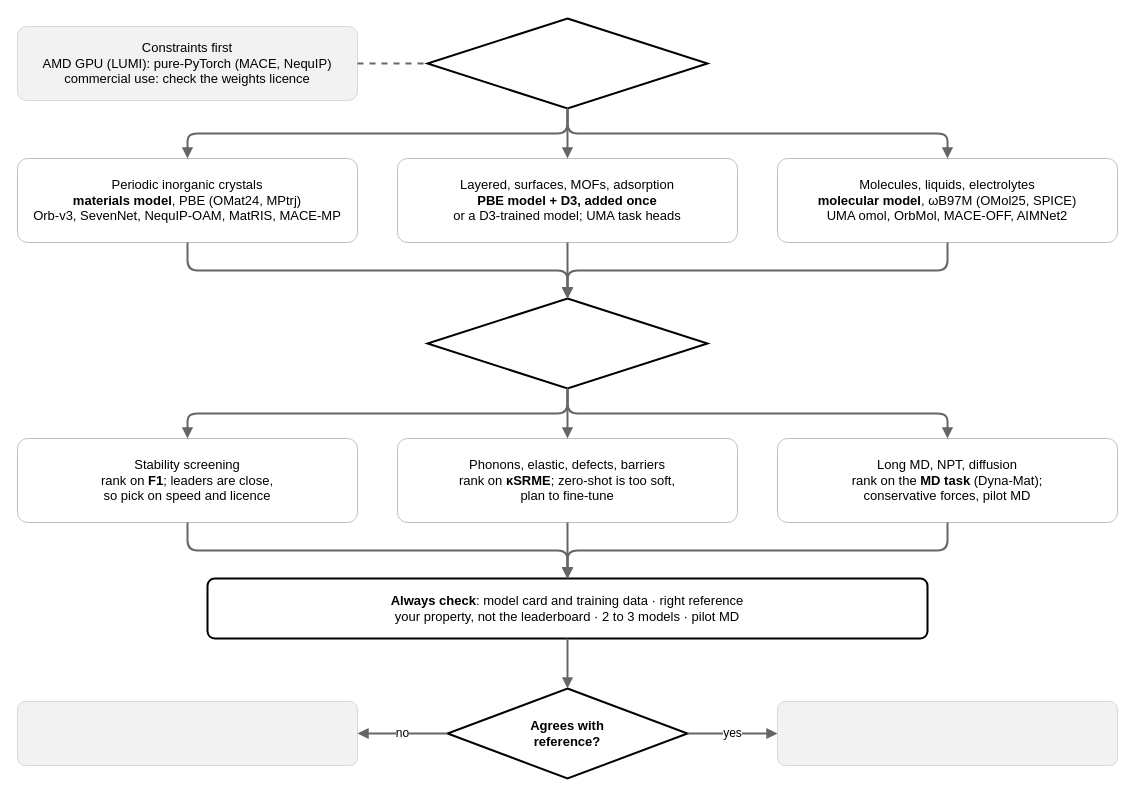
Some shapes in this 1135 by 796 pixel diagram are drawn without their labels. Each missing label, with the box of its shape:
fine-tune on a few DFT structures keep the original model: (16, 700, 358, 766)
production pin software versions: (776, 700, 1118, 766)
What are you simulating?: (426, 17, 708, 109)
Which property?: (426, 297, 708, 389)
